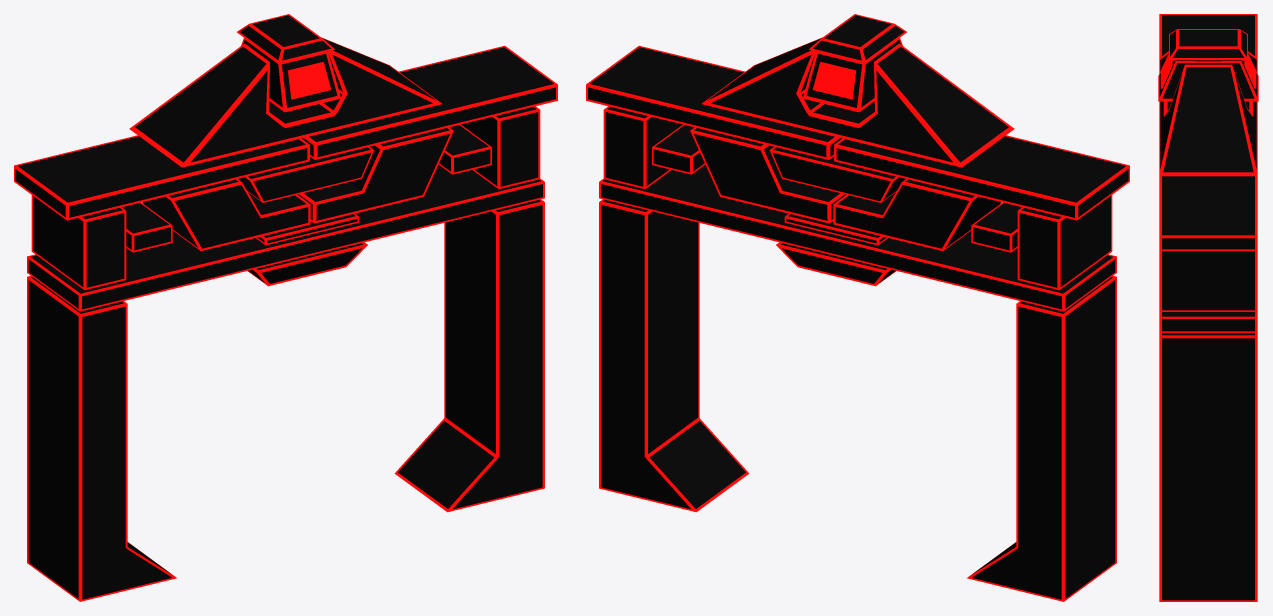
Rendered from recognizer_-_tron_1982.glb.
3 views of the same model, side by side, from view 1: azimuth 30°, elevation 25°; view 2: azimuth 150°, elevation 25°; view 3: azimuth 270°, elevation 25° (orthographic). The views are drawn at different scales.
Visible parts, largest first — view 1: Leg_02, Leg_01, polySurface9, polySurface4, polySurface13, polySurface6, polySurface12, polySurface5, polySurface10, polySurface1, polySurface2, polySurface8 (+5 smaller); view 2: Leg_02, Leg_01, polySurface9, polySurface4, polySurface13, polySurface6, polySurface12, polySurface5, polySurface10, polySurface1, polySurface2, polySurface8 (+5 smaller); view 3: Leg_02, polySurface9, polySurface6, polySurface2, polySurface1, polySurface4, polySurface13, polySurface14, polySurface15.
Part boxes in pixels (x1,y1,x2,y2): Leg_02: [394, 199, 544, 512]; Leg_01: [27, 276, 176, 601]; polySurface9: [129, 37, 442, 167]; polySurface4: [27, 164, 544, 311]; polySurface13: [14, 135, 309, 220]; polySurface6: [301, 45, 557, 159]; polySurface12: [142, 179, 310, 250]; polySurface5: [298, 127, 453, 223]; polySurface10: [31, 195, 126, 290]; polySurface1: [237, 14, 341, 112]; polySurface2: [461, 106, 540, 189]; polySurface8: [238, 147, 374, 202]; Leg_02: [599, 199, 749, 512]; Leg_01: [967, 276, 1116, 601]; polySurface9: [701, 37, 1014, 167]; polySurface4: [599, 164, 1116, 311]; polySurface13: [834, 135, 1129, 220]; polySurface6: [586, 45, 842, 159]; polySurface12: [833, 179, 1001, 250]; polySurface5: [690, 127, 845, 223]; polySurface10: [1017, 195, 1112, 290]; polySurface1: [802, 14, 906, 112]; polySurface2: [603, 106, 682, 189]; polySurface8: [769, 147, 905, 202]; Leg_02: [1159, 333, 1257, 601]; polySurface9: [1159, 51, 1257, 176]; polySurface6: [1159, 176, 1257, 251]; polySurface2: [1159, 251, 1257, 311]; polySurface1: [1158, 29, 1258, 101]; polySurface4: [1159, 312, 1257, 332]; polySurface13: [1159, 14, 1257, 57]; polySurface14: [1244, 54, 1256, 88]; polySurface15: [1160, 54, 1172, 88].
Bounding box in the file's own units: 2.24 × 2.16 × 0.4276.
